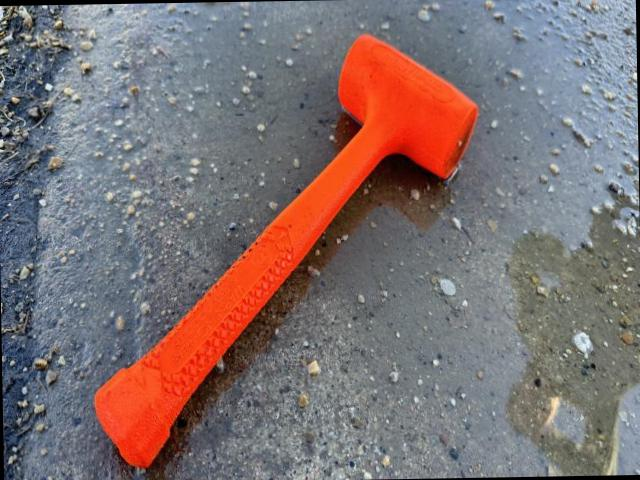hammer: (88, 31, 486, 467)
